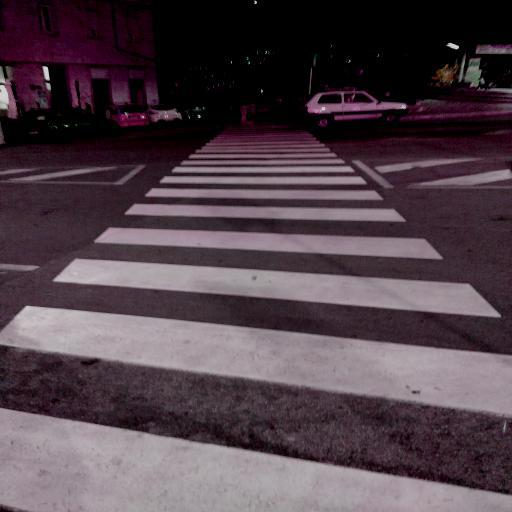crosswalk: (77, 200, 453, 264), (178, 151, 347, 168)
